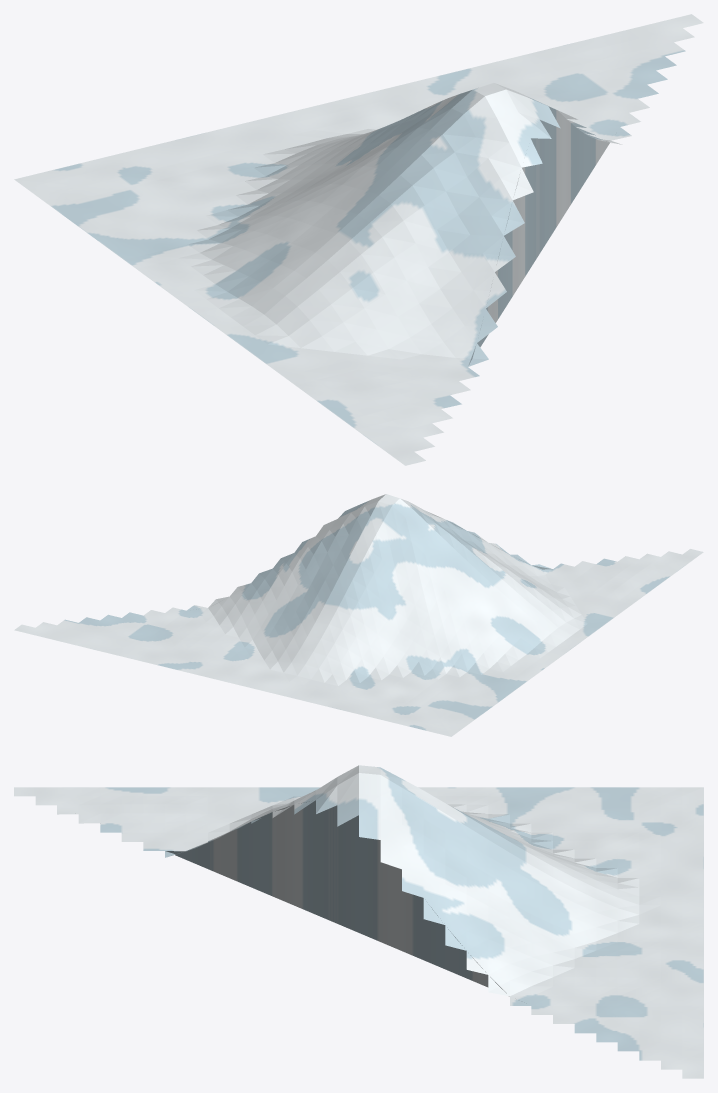
Rendered from Snow_Mountains_03_SW.obj.
3 views of the same model, one above another, from view 1: azimuth 30°, elevation 25°; view 2: azimuth 150°, elevation 25°; view 3: azimuth 270°, elevation 25° (orthographic). The views are drawn at different scales.
Size of the model in its own units: 10 by 2.27 by 10.
Materials: 1 (1 with a texture image).
